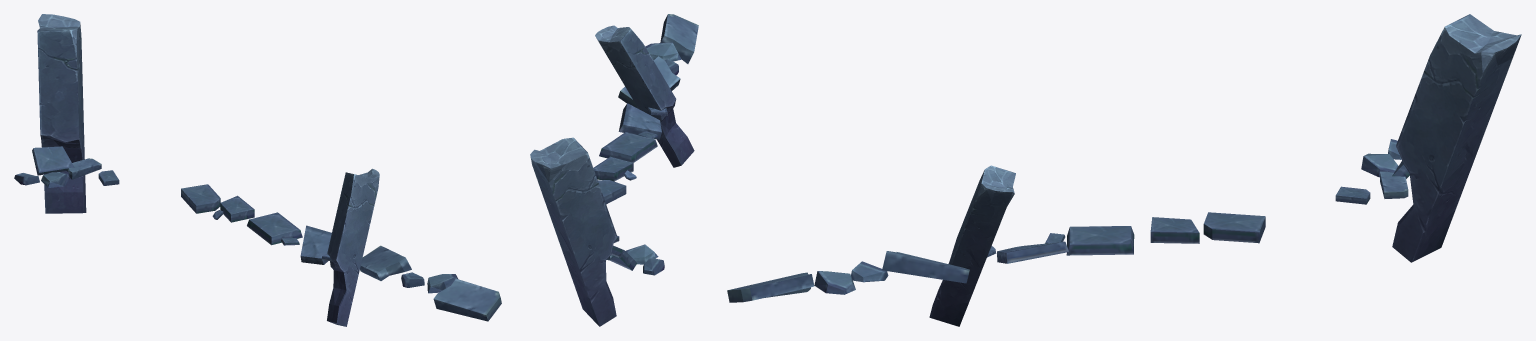
The model's file is Area13_19.fbx.
The picture shows the model from 3 angles, left to right: view 1: azimuth 30°, elevation 25°; view 2: azimuth 150°, elevation 25°; view 3: azimuth 270°, elevation 25°; orthographic projection. The views are drawn at different scales.
Parts seen in each view (by area): view 1: Area13_19; view 2: Area13_19; view 3: Area13_19.
Boxes of the visible parts, <box> form: Area13_19: <box>14,14,501,326</box>; Area13_19: <box>530,14,698,326</box>; Area13_19: <box>727,14,1521,326</box>.
Size of the model in its own units: 2324 by 1690 by 4978.
1 material, 1 textured.
